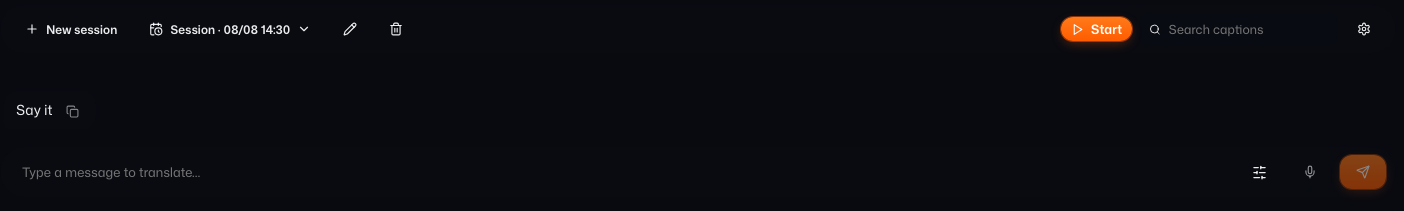
Test: HistoryPanel separated live controls › surfaces the separated start error inline
Step 1. Click the button "Start" → (1096, 29), box x1=1061 y1=17 x2=1132 y2=41
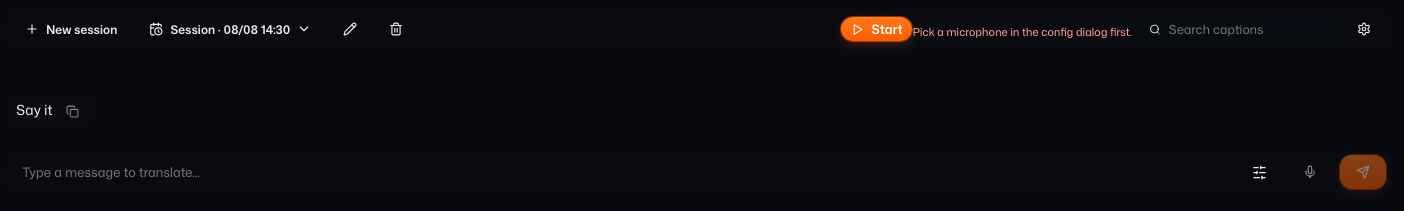
Expected: the text "Pick a microphone in the config dialog first." is shown, x1=912 y1=24 x2=1132 y2=40
